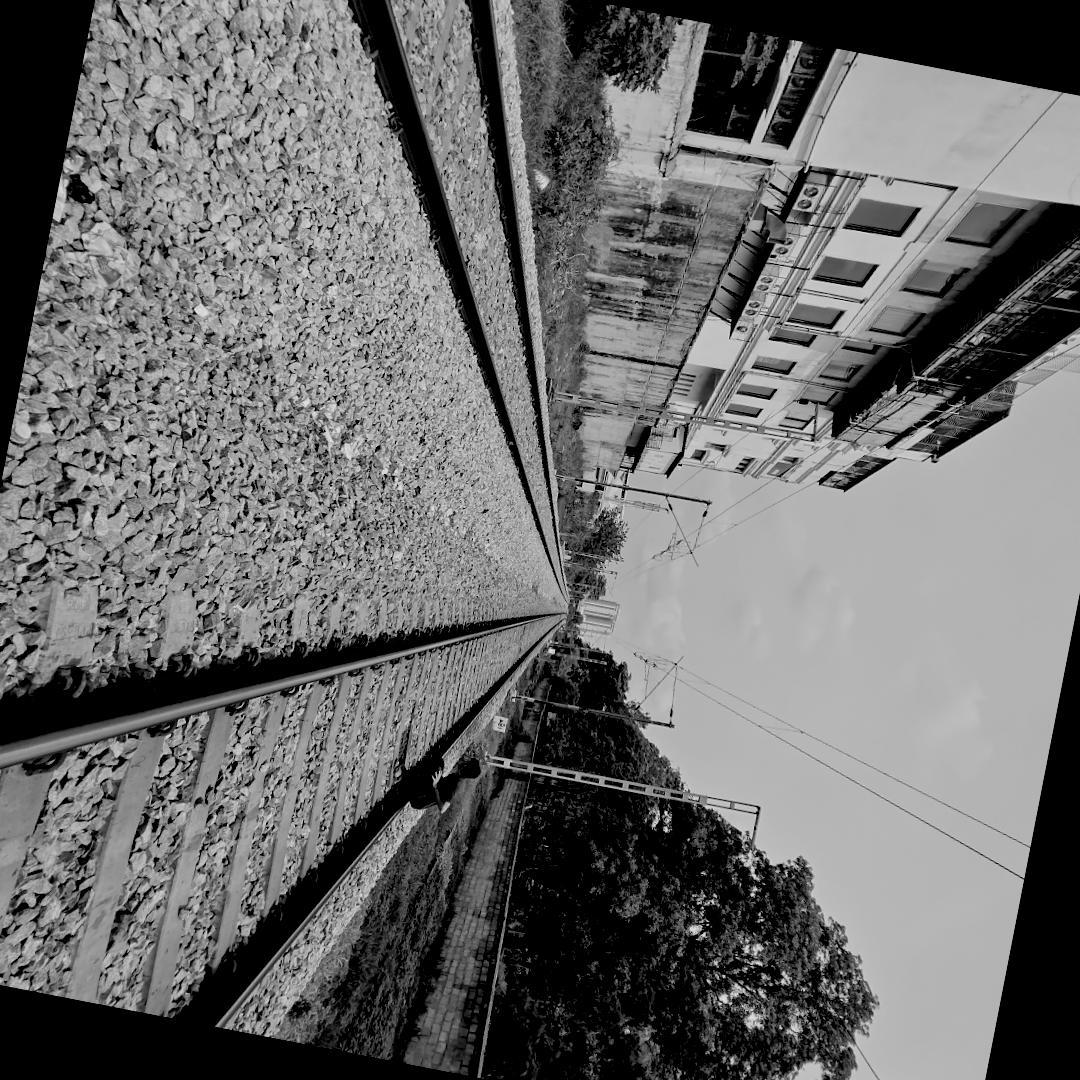sitting: (372, 724, 490, 830)
track: (0, 597, 571, 1034), (254, 0, 569, 594)
